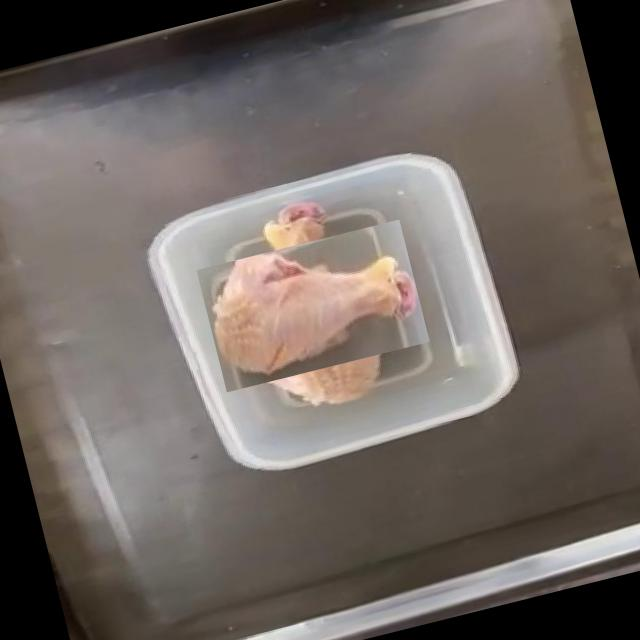chicken: (211, 203, 415, 407)
